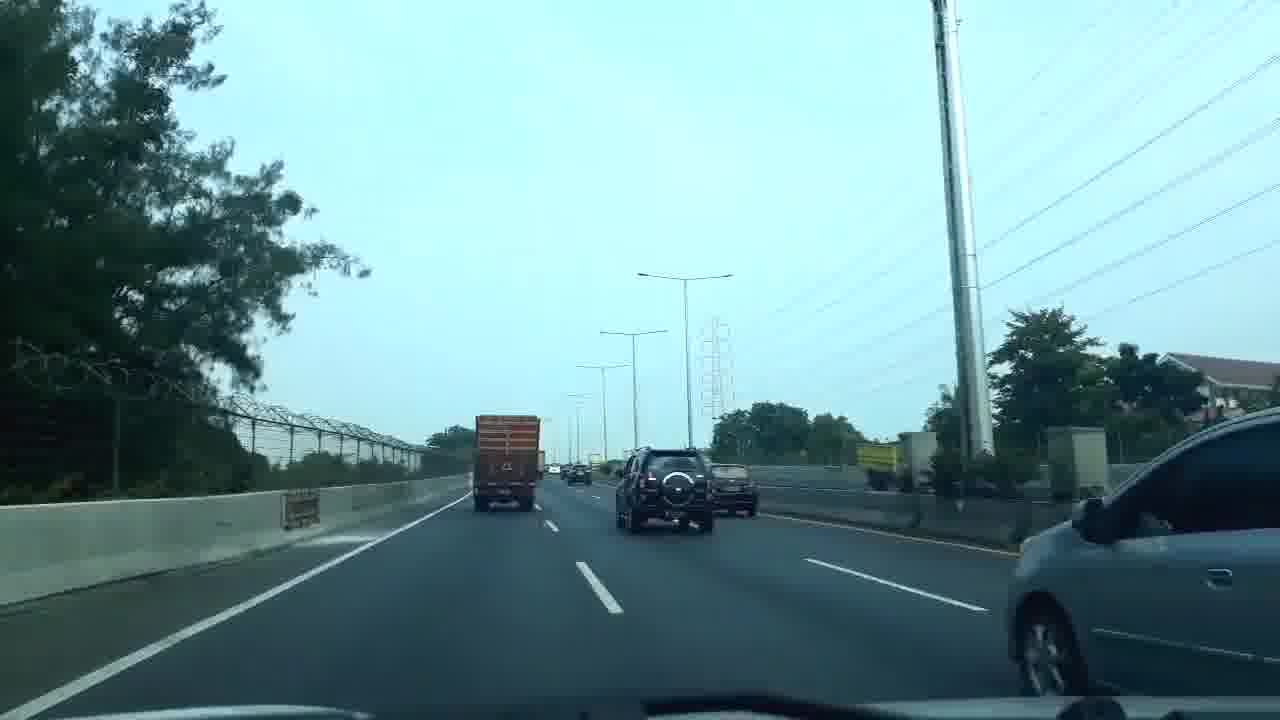plate_positive: (664, 511, 689, 520), (721, 485, 743, 493), (497, 488, 513, 495)
